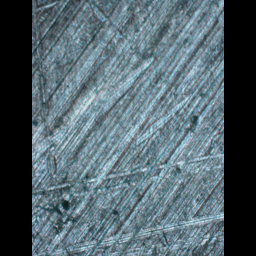d: (32, 151, 223, 208), (32, 0, 74, 242), (40, 210, 223, 256)
